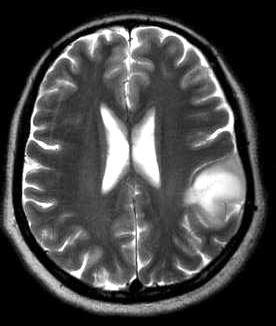Normal_Brain: (3, 1, 276, 326)
